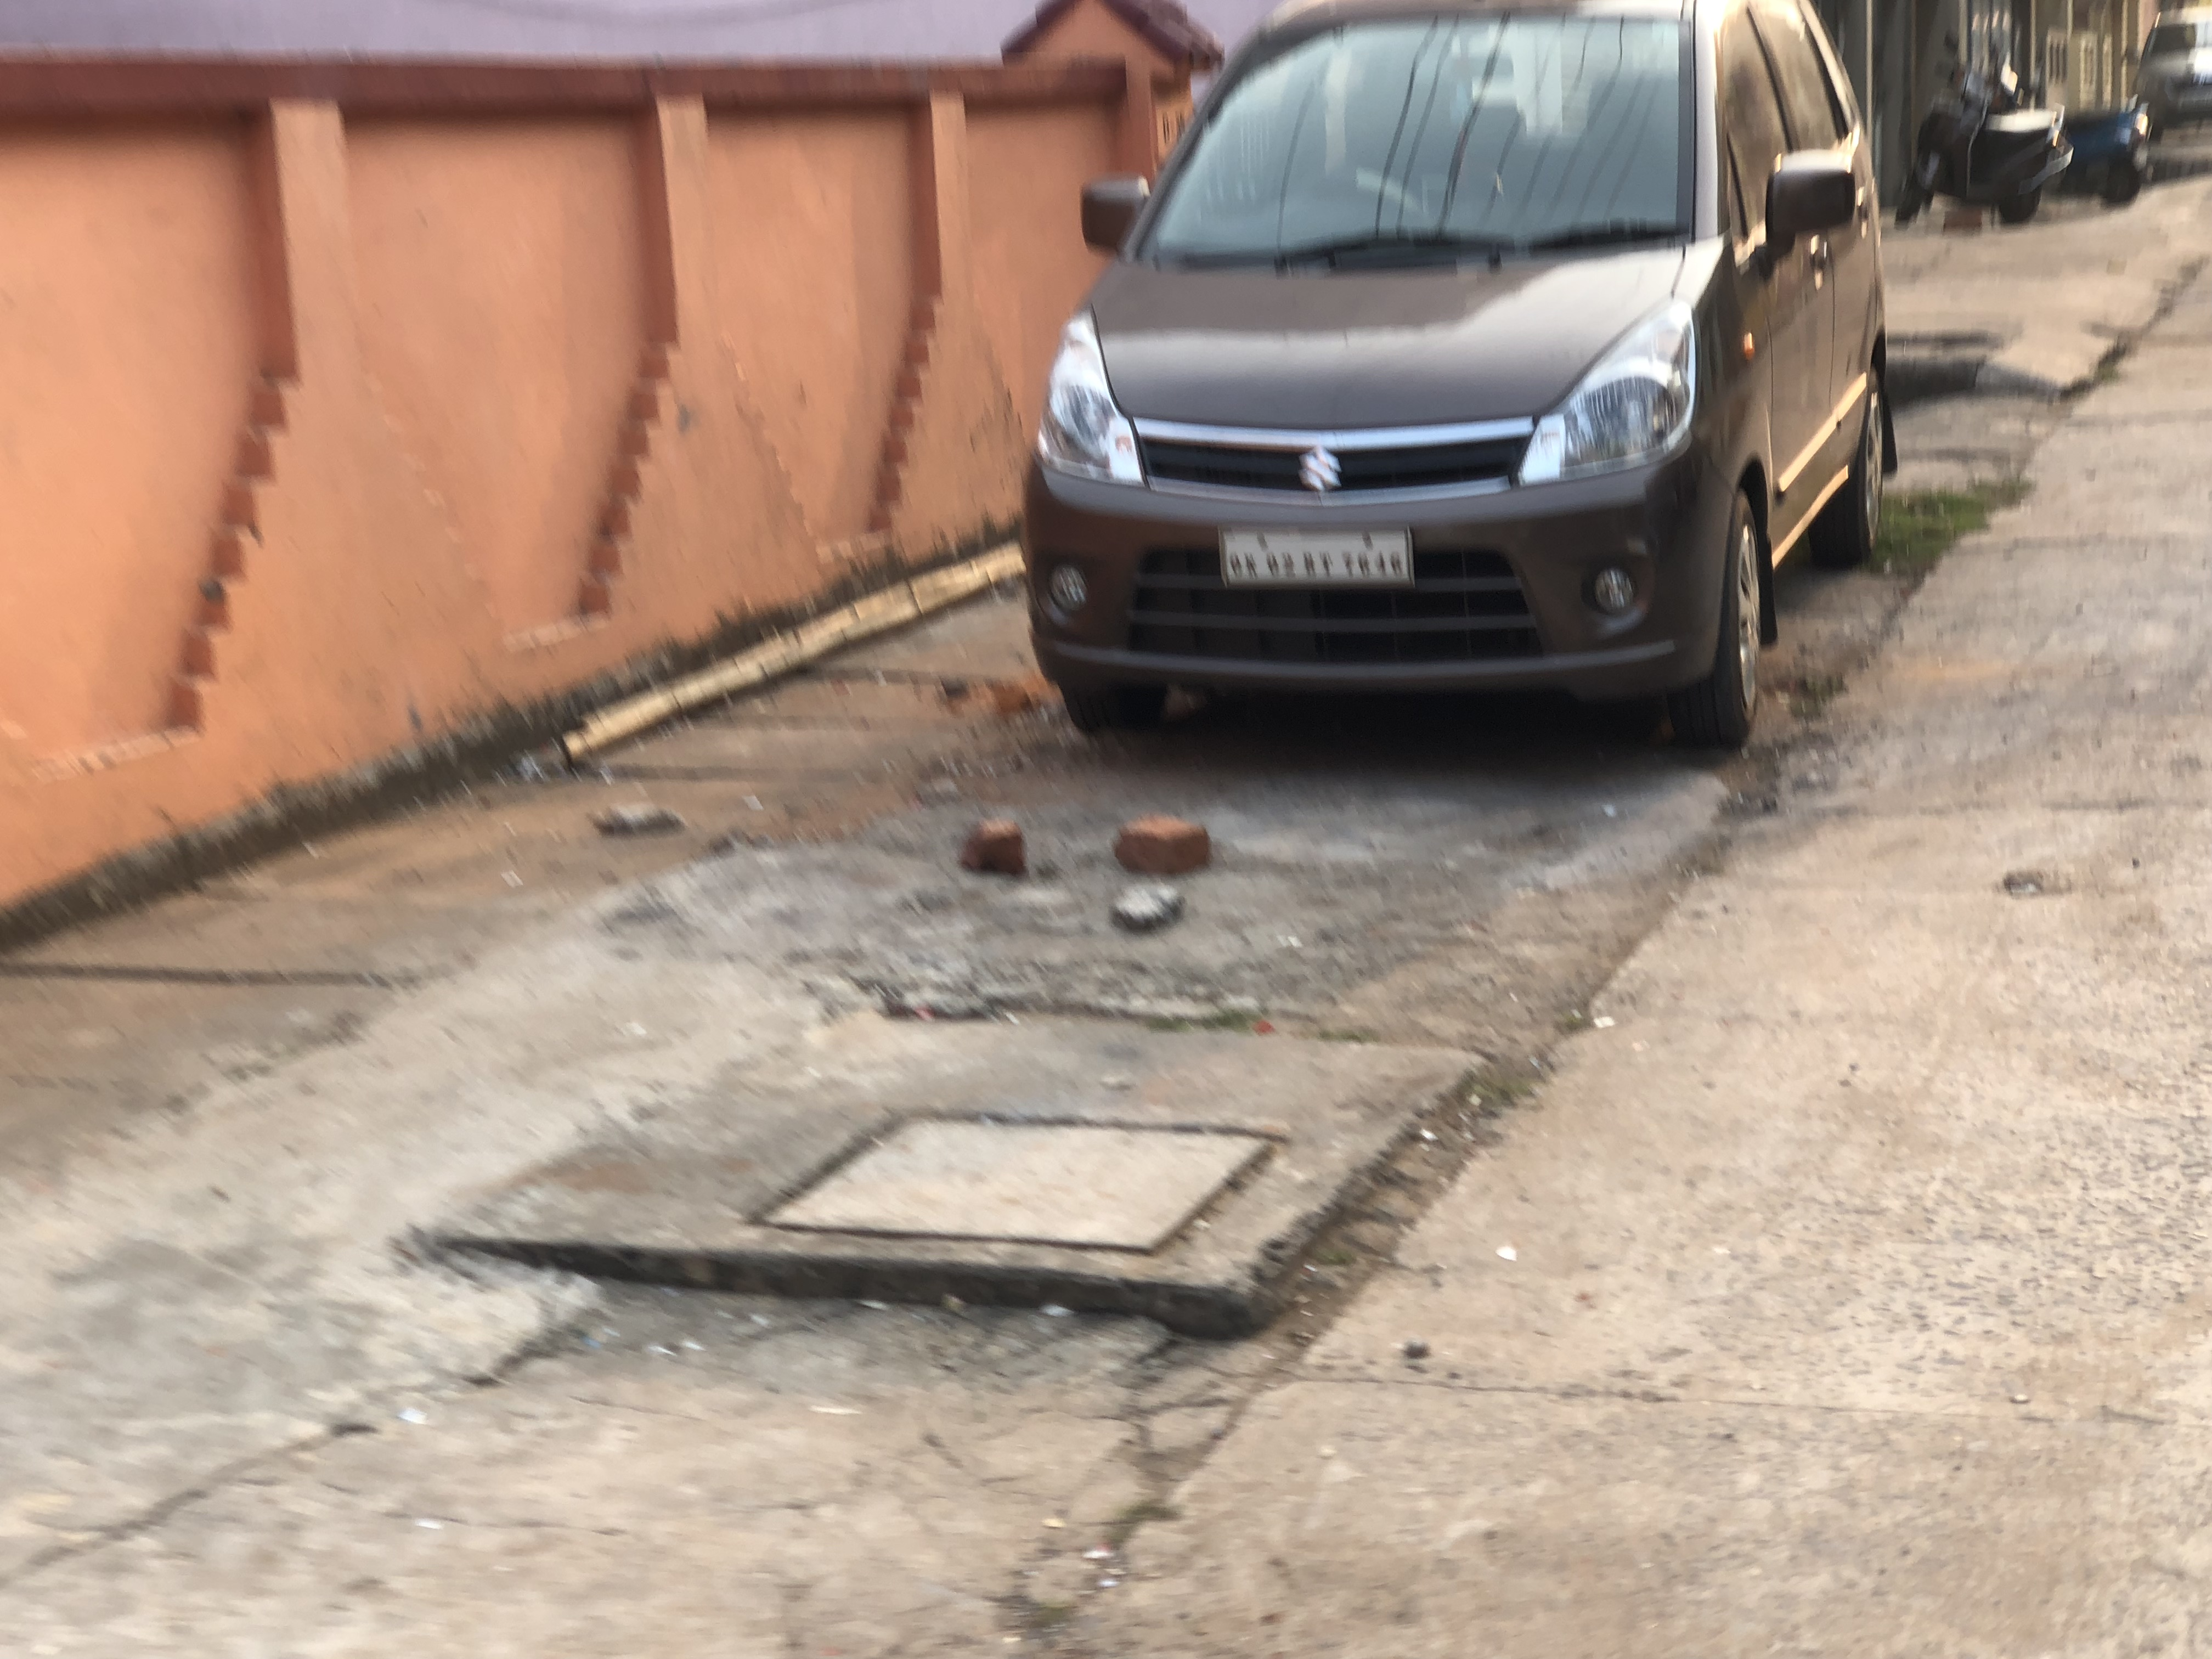licenseplate: (1217, 513, 1419, 600)
